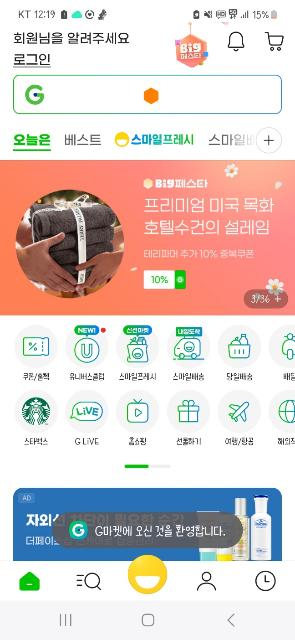Bottom_Navigation: (0, 551, 295, 600)
EditText: (14, 75, 282, 113)
Icon: (255, 569, 277, 591), (76, 572, 102, 590), (198, 570, 217, 592), (227, 31, 245, 54), (20, 571, 40, 591), (266, 31, 284, 50)
Image: (0, 159, 295, 314), (14, 488, 282, 560), (14, 325, 58, 367), (66, 391, 108, 434), (167, 391, 211, 432), (66, 326, 108, 368), (116, 325, 158, 367), (15, 391, 57, 432), (118, 391, 158, 434), (218, 326, 260, 366), (168, 327, 208, 368), (220, 391, 260, 431), (175, 22, 208, 68), (24, 83, 44, 105), (70, 521, 88, 539), (114, 130, 128, 148)
ImageButton: (128, 553, 168, 595), (255, 127, 283, 155)
Multi_Tab: (1, 126, 255, 160)
PageIndicator: (124, 463, 171, 471)
Text: (145, 198, 275, 236), (96, 526, 226, 538), (14, 32, 128, 44), (145, 250, 255, 258), (130, 135, 194, 145), (156, 179, 209, 189), (14, 133, 50, 147), (14, 53, 50, 67), (64, 134, 102, 146), (119, 372, 155, 382), (250, 294, 284, 304), (70, 373, 106, 381), (224, 438, 254, 447), (23, 372, 49, 382), (74, 436, 100, 446), (175, 436, 200, 446), (172, 373, 203, 381), (226, 373, 252, 381), (25, 437, 49, 445), (129, 436, 147, 444)
TextImageButton: (219, 390, 262, 446), (14, 326, 58, 380), (116, 325, 158, 381), (219, 326, 261, 382), (16, 390, 58, 446), (66, 390, 108, 446), (168, 390, 210, 446), (66, 326, 109, 380), (118, 389, 158, 446), (168, 326, 208, 380)
UpperTaskBar: (0, 0, 295, 26)
